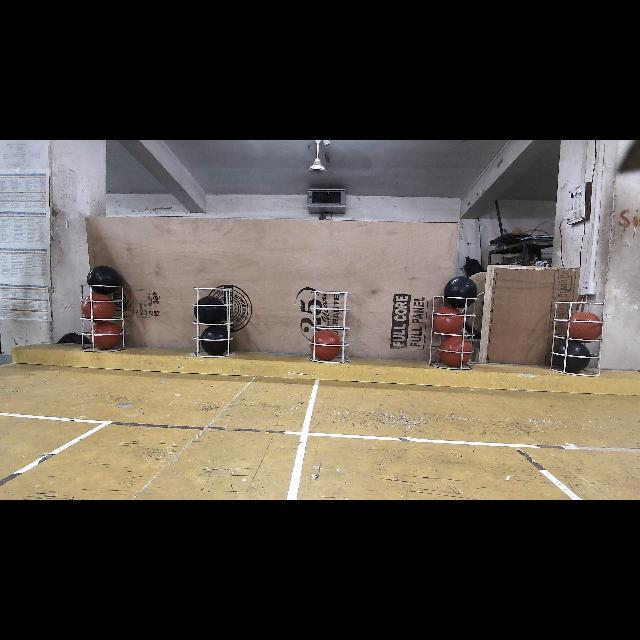P: (444, 277, 479, 308), (556, 341, 590, 372), (88, 264, 119, 296), (200, 325, 230, 353), (196, 298, 224, 326)
R: (566, 313, 604, 343), (442, 337, 471, 369), (311, 331, 341, 361), (92, 322, 122, 350), (84, 294, 115, 320), (435, 306, 463, 334)
S: (551, 301, 604, 375), (78, 281, 126, 355), (429, 296, 476, 369), (193, 285, 233, 359), (310, 289, 349, 362)
